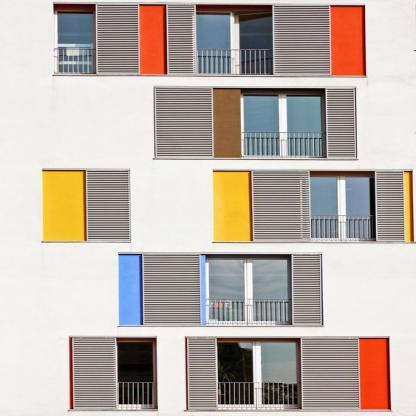Building Outline: (0, 0, 416, 416)
Facade: (0, 0, 416, 416)
Floor: (0, 77, 416, 159), (0, 328, 415, 410), (0, 162, 416, 242), (0, 245, 416, 325), (0, 0, 416, 75)
Floor Slab: (0, 74, 416, 79), (0, 159, 416, 163), (0, 325, 416, 329), (0, 409, 416, 413), (0, 242, 416, 245)
Window: (216, 340, 301, 409), (205, 257, 292, 324), (241, 92, 325, 159), (195, 11, 273, 75), (310, 175, 376, 240), (117, 340, 157, 410), (57, 11, 93, 73)
Window Hole: (205, 254, 292, 325), (216, 338, 301, 410), (241, 88, 327, 159), (195, 4, 273, 75), (310, 171, 376, 242), (53, 3, 96, 74), (116, 337, 157, 410)
